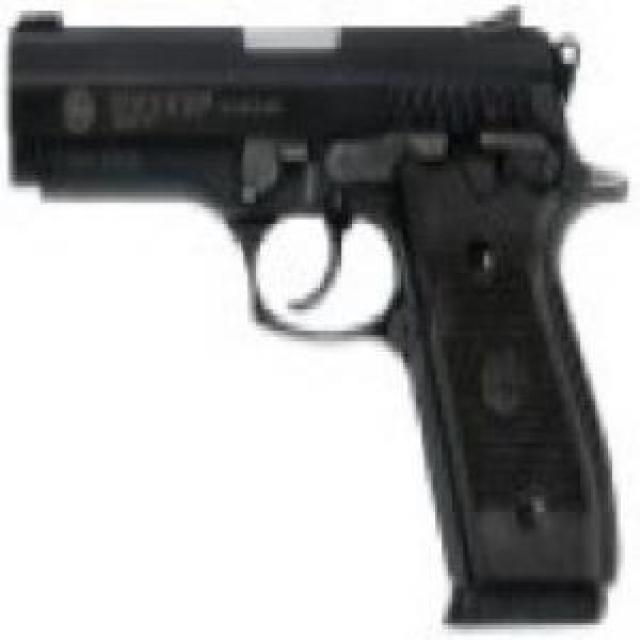pistol: (4, 6, 630, 636)
